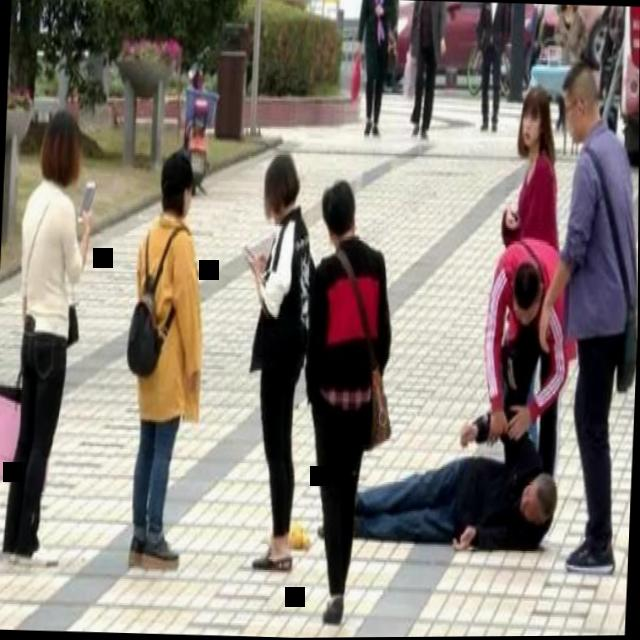Fall-Detected: (340, 432, 565, 561)
